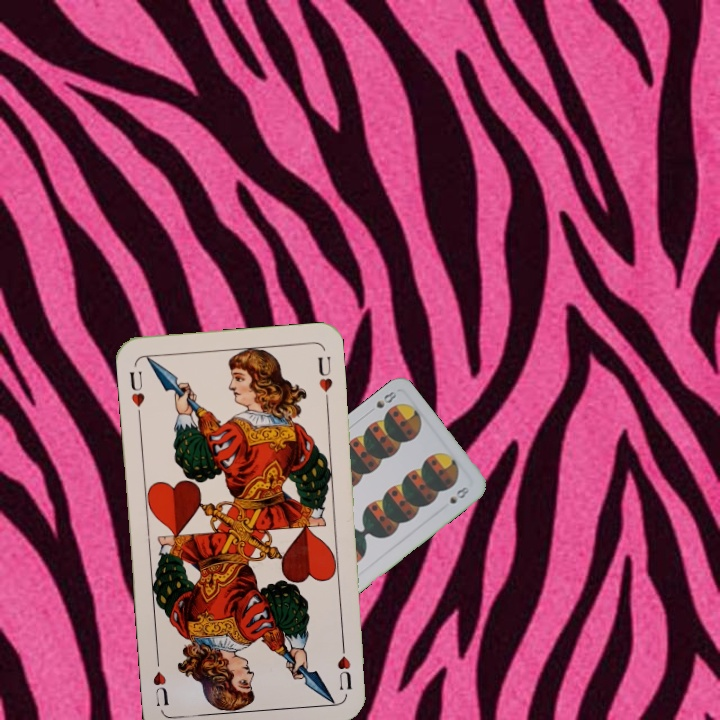HU: (333, 636, 355, 693), (125, 367, 147, 420)
S8: (363, 387, 399, 417)
